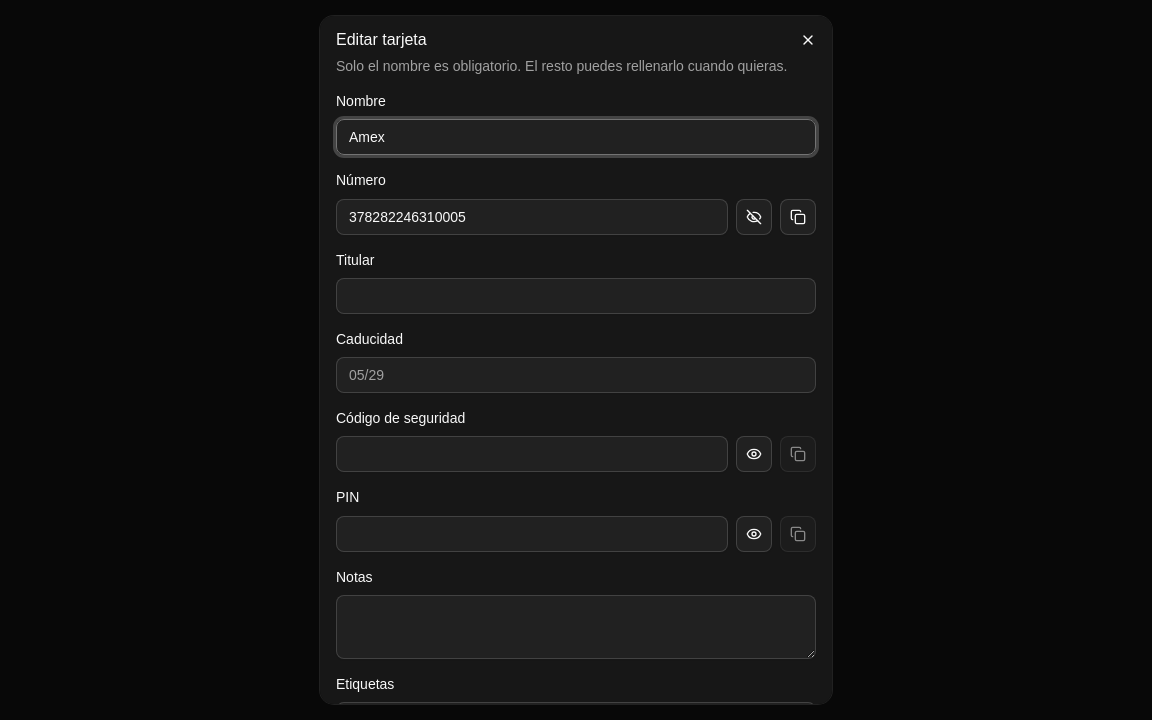
the wording of the notice › copies a card number with the notice agreeing, from the editor
Click the button named "Copiar el número".
click(798, 216)  # box [780,198,816,234]
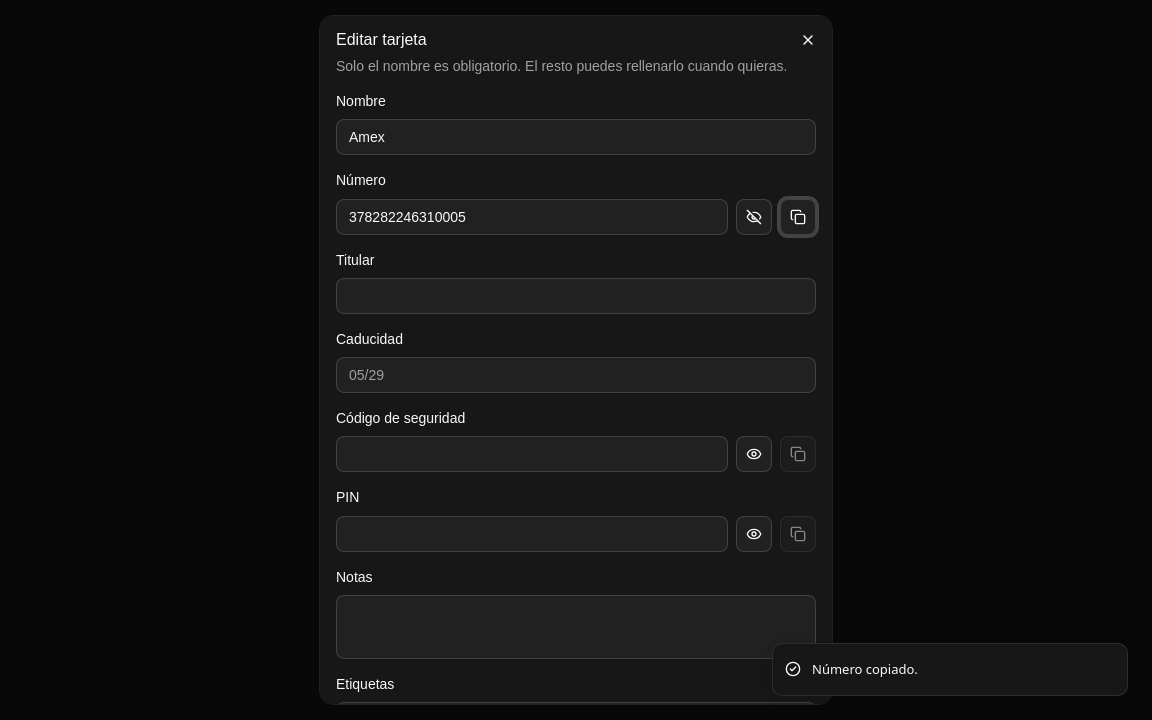
Result: the text "Número copiado." is shown at [812,660,918,679]
